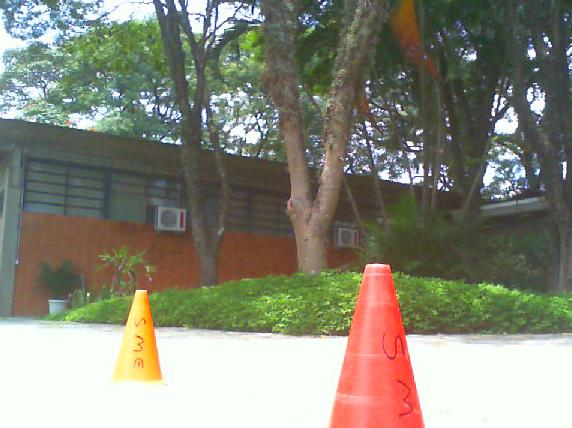0 cone: (317, 264, 434, 428), (111, 289, 164, 386)
